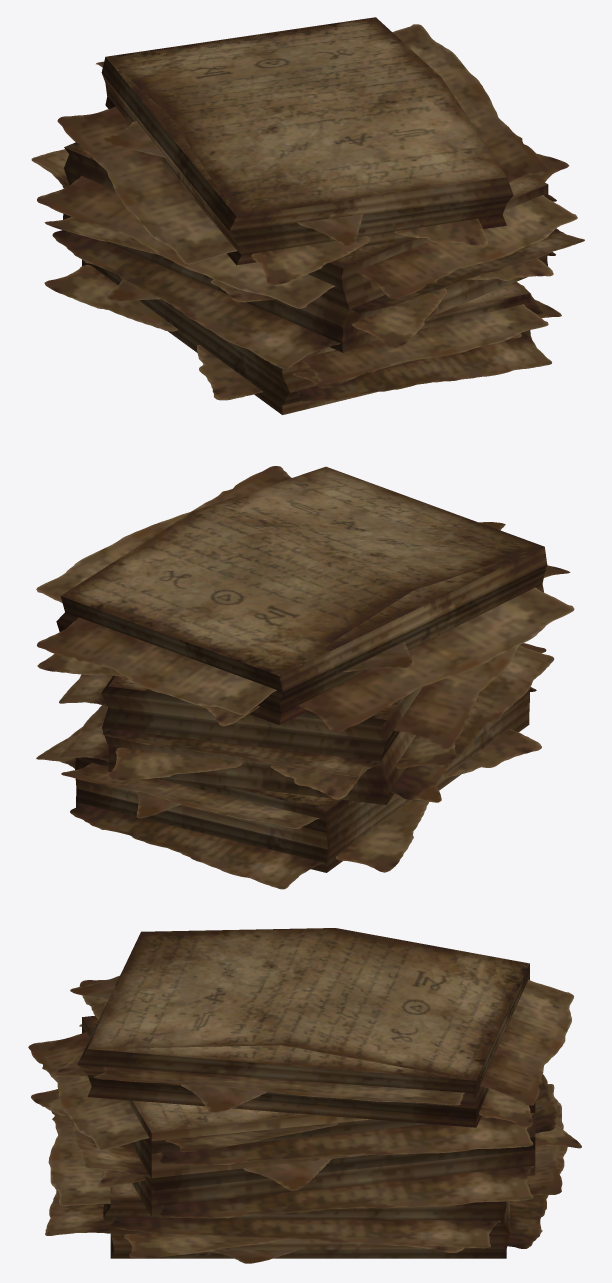
File: paperpile03.dae
3 views of the same model, one above another, from view 1: azimuth 30°, elevation 25°; view 2: azimuth 150°, elevation 25°; view 3: azimuth 270°, elevation 25° (orthographic). The views are drawn at different scales.
Visible parts, largest first — view 1: polySurface11, polySurface12; view 2: polySurface11, polySurface12; view 3: polySurface11, polySurface12.
Part boxes in pixels (box(x1,y1,x2,y2)): polySurface11: box(32, 17, 584, 414); polySurface12: box(31, 24, 584, 401); polySurface11: box(36, 466, 574, 889); polySurface12: box(36, 466, 573, 886); polySurface11: box(29, 928, 581, 1263); polySurface12: box(28, 928, 581, 1262).
Bounding box in the file's own units: 0.3511 × 0.1655 × 0.4129.
